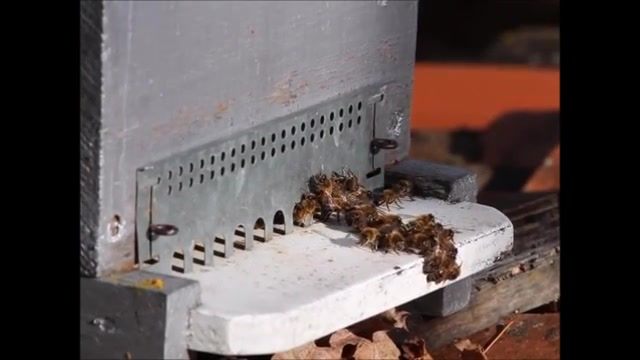bee: (340, 173, 383, 221), (386, 213, 432, 250), (423, 252, 462, 286), (376, 181, 414, 203), (299, 191, 320, 226), (429, 228, 457, 254), (316, 175, 335, 211), (355, 227, 384, 248)
